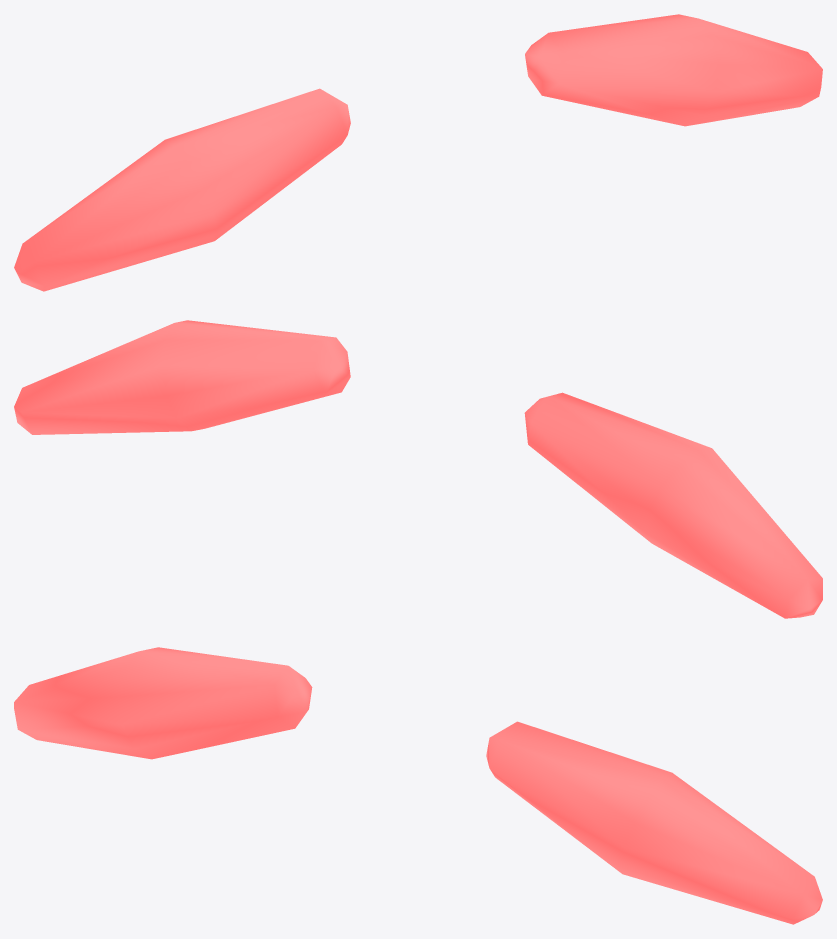
The model's file is Mascarada_MascaraTragedia_Neon.fbx.
3 views of the same model, one above another, from view 1: azimuth 30°, elevation 25°; view 2: azimuth 150°, elevation 25°; view 3: azimuth 330°, elevation 25° (orthographic).
Visible parts, largest first — view 1: Mascarada_MascaraTragedia_Neon; view 2: Mascarada_MascaraTragedia_Neon; view 3: Mascarada_MascaraTragedia_Neon.
Part boxes in pixels (bbox=[...]): Mascarada_MascaraTragedia_Neon: bbox=[14, 14, 822, 291]; Mascarada_MascaraTragedia_Neon: bbox=[14, 320, 822, 618]; Mascarada_MascaraTragedia_Neon: bbox=[14, 647, 822, 924].
Bounding box in the file's own units: 0.7889 × 0.1386 × 0.0998.
